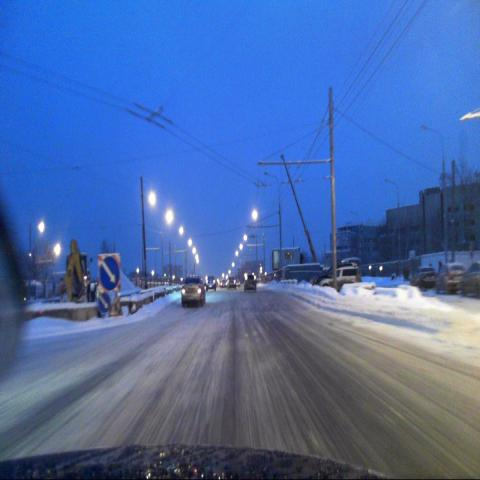4_2_1: (98, 292, 111, 312)
